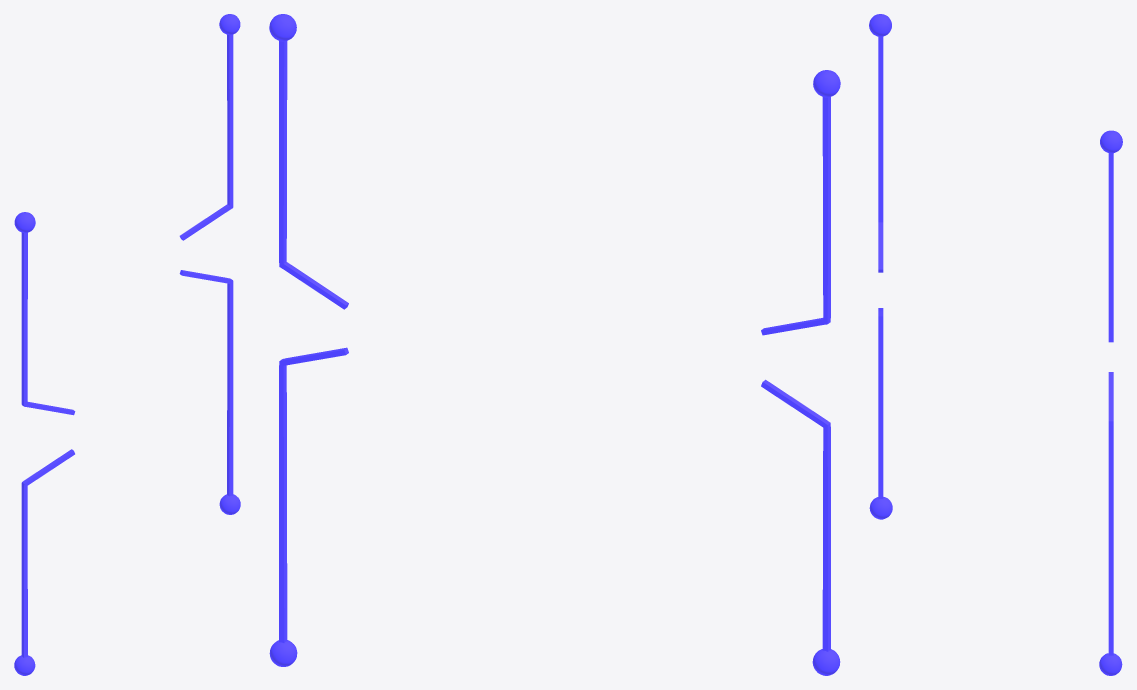
File: SegnPortraitSocial8.gltf
3 views of the same model, side by side, from view 1: azimuth 30°, elevation 25°; view 2: azimuth 150°, elevation 25°; view 3: azimuth 270°, elevation 25° (orthographic). The views are drawn at different scales.
Visible parts, largest first — view 1: ListnerModuli.015; view 2: ListnerModuli.015; view 3: ListnerModuli.015.
Boxes of the visible parts, x1,y1,x2,y2 form: ListnerModuli.015: (14,14,240,675); ListnerModuli.015: (269,14,840,675); ListnerModuli.015: (869,14,1122,675).
Size of the model in its own units: 0.7563 by 1.11 by 0.4639.
